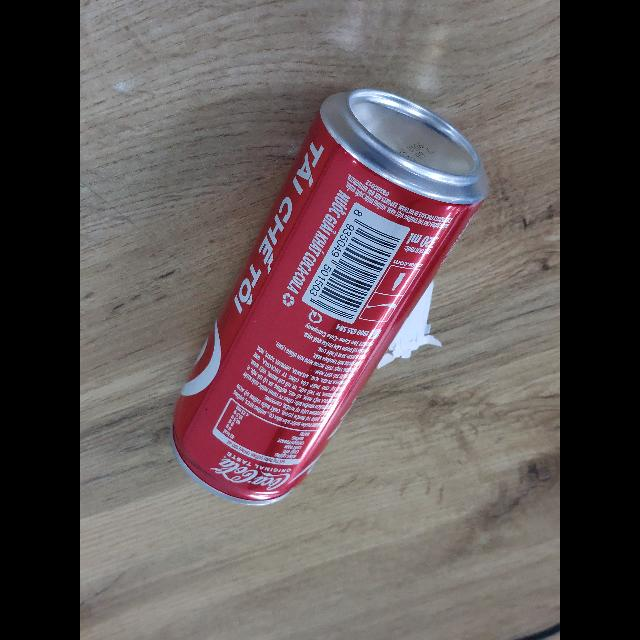coca_cola: (171, 85, 490, 506)
